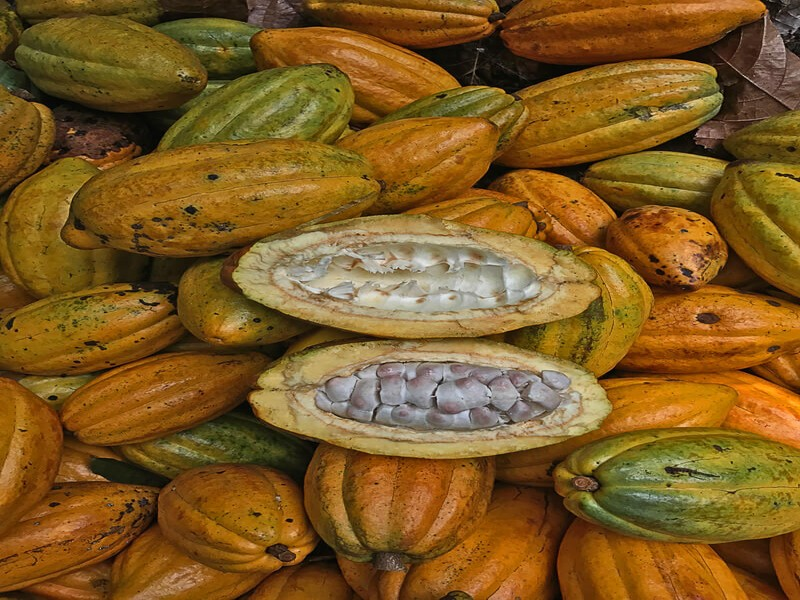Cacaopod: (59, 138, 381, 263), (15, 13, 204, 110)
